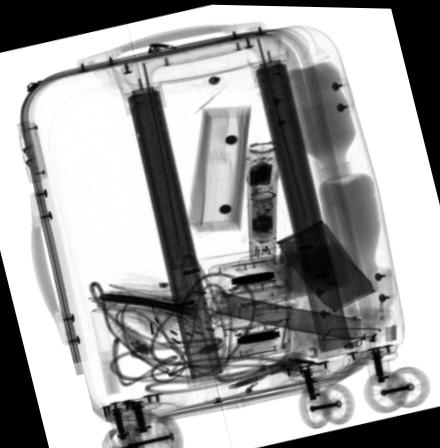Baton: (244, 139, 280, 267)
